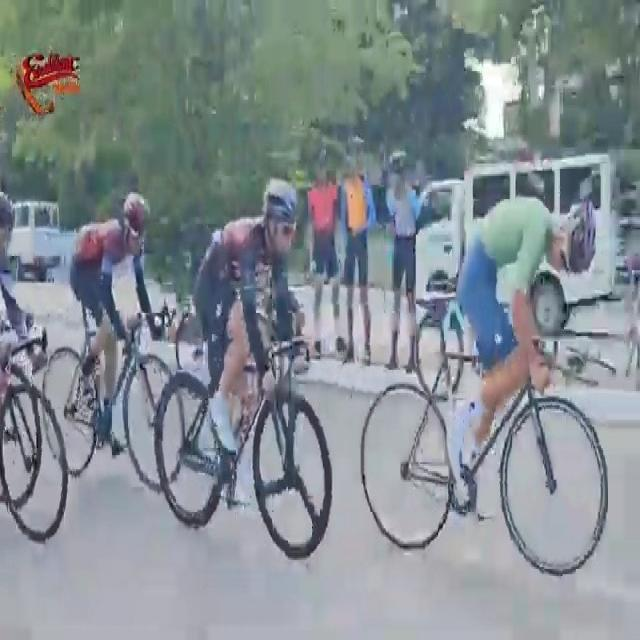bike: (356, 189, 612, 580), (155, 174, 335, 567), (42, 188, 185, 498), (0, 189, 70, 552)
car: (419, 157, 614, 330), (10, 197, 64, 282)
